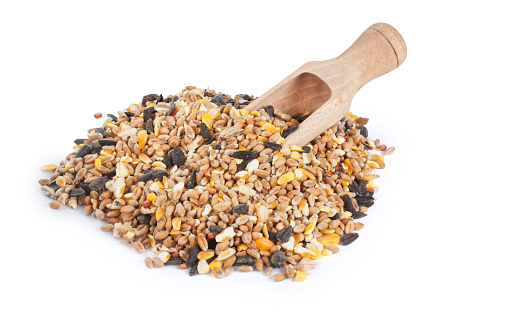seed: (29, 76, 397, 288)
